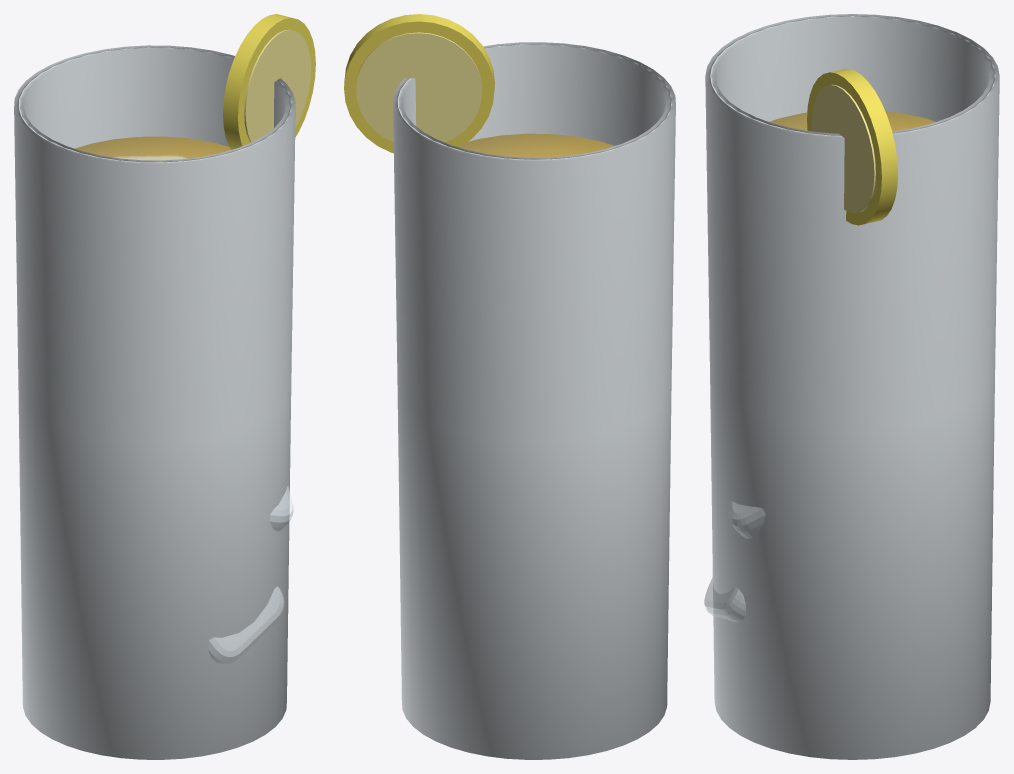
Rendered from cocktail-zafferoni.glb.
3 views of the same model, side by side, from view 1: azimuth 30°, elevation 25°; view 2: azimuth 150°, elevation 25°; view 3: azimuth 270°, elevation 25° (orthographic). The views are drawn at different scales.
Bounding box in the file's own units: 0.0779 × 0.164 × 0.0642.
